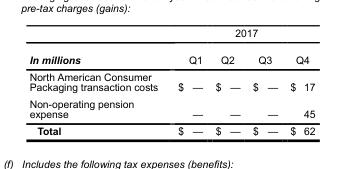table: (28, 29, 314, 137)
table column: (28, 29, 167, 137), (167, 29, 208, 137), (245, 29, 283, 137), (208, 29, 245, 137), (283, 29, 314, 137)
table column header: (28, 29, 314, 69)
table row: (28, 69, 314, 97), (28, 97, 314, 124), (28, 47, 314, 69), (28, 29, 314, 47), (28, 124, 314, 137)
table spanning cell: (28, 29, 167, 69), (167, 29, 314, 47)
